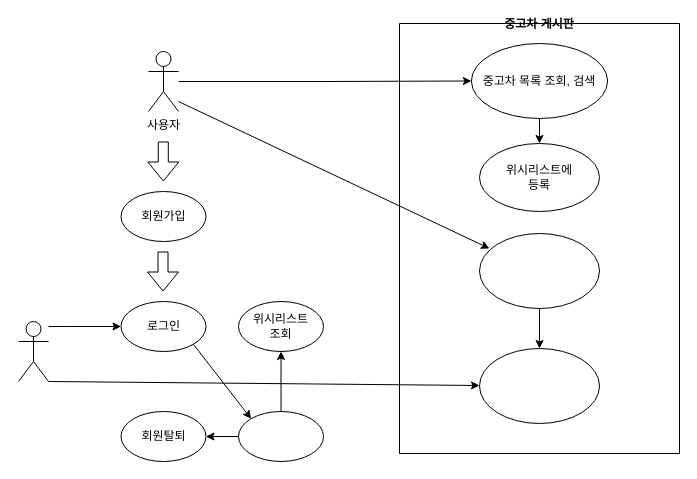
This 697x479 diagram has some shape labels left out. Here are the shapes that lost their labels. From the top down, the box of each, then its label:
(478, 232, 600, 308): 중고차 등록
(18, 320, 48, 382): 관리자
(478, 348, 600, 424): 중고차 삭제
(238, 410, 324, 462): 회원정보조회
